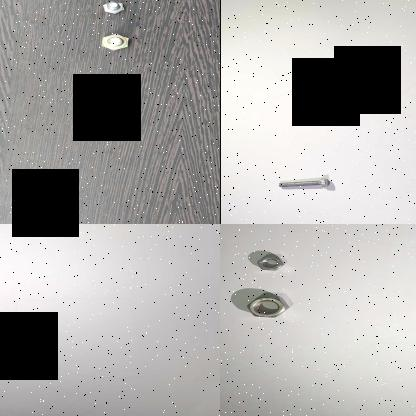Bolts: (273, 173, 333, 193), (96, 34, 134, 52), (100, 0, 128, 16)
NUTS: (242, 293, 291, 321), (254, 254, 284, 272)
